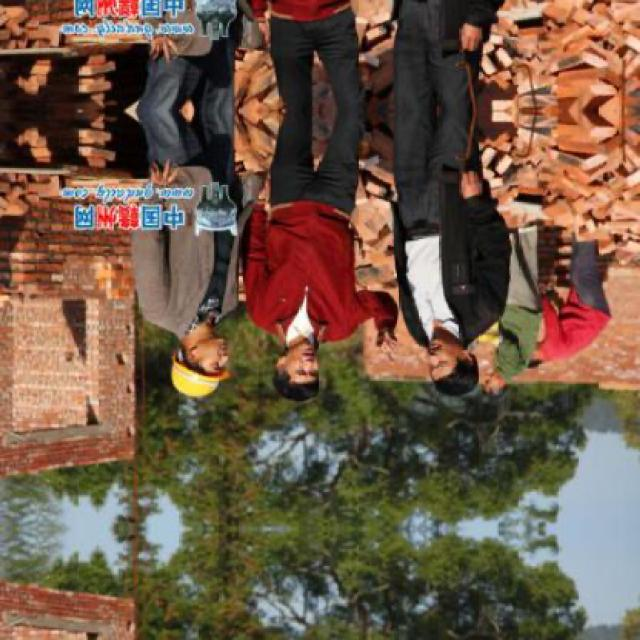con casco: (126, 235, 236, 418)
sin casco: (223, 282, 361, 408), (409, 286, 489, 414)
